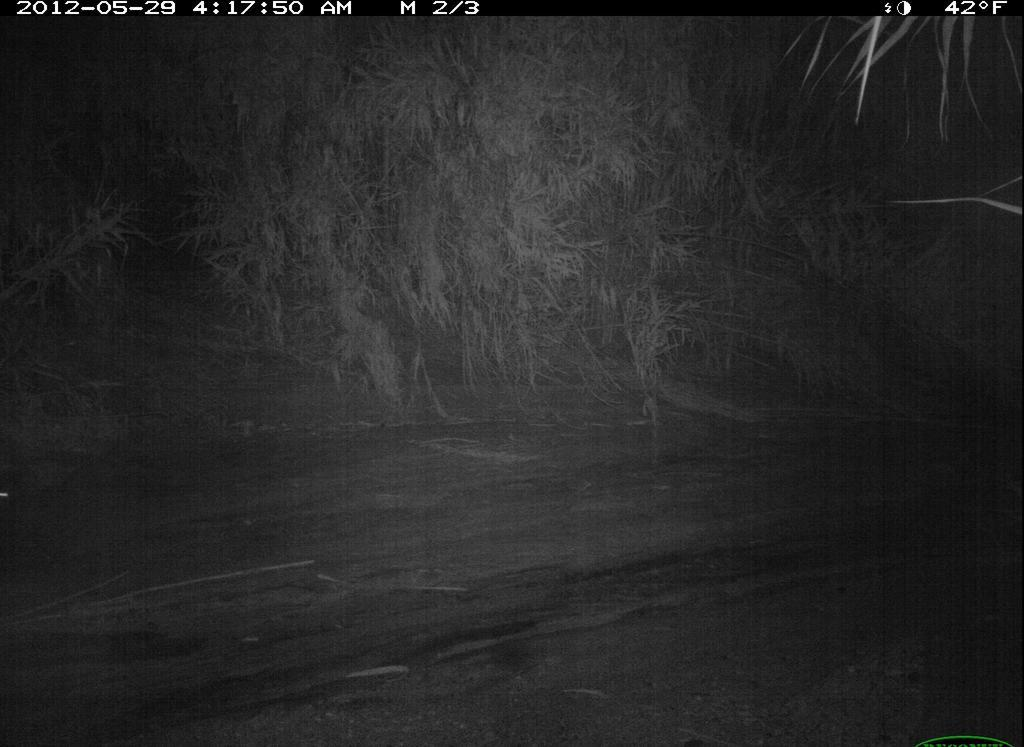opossum: (1, 439, 103, 517)
